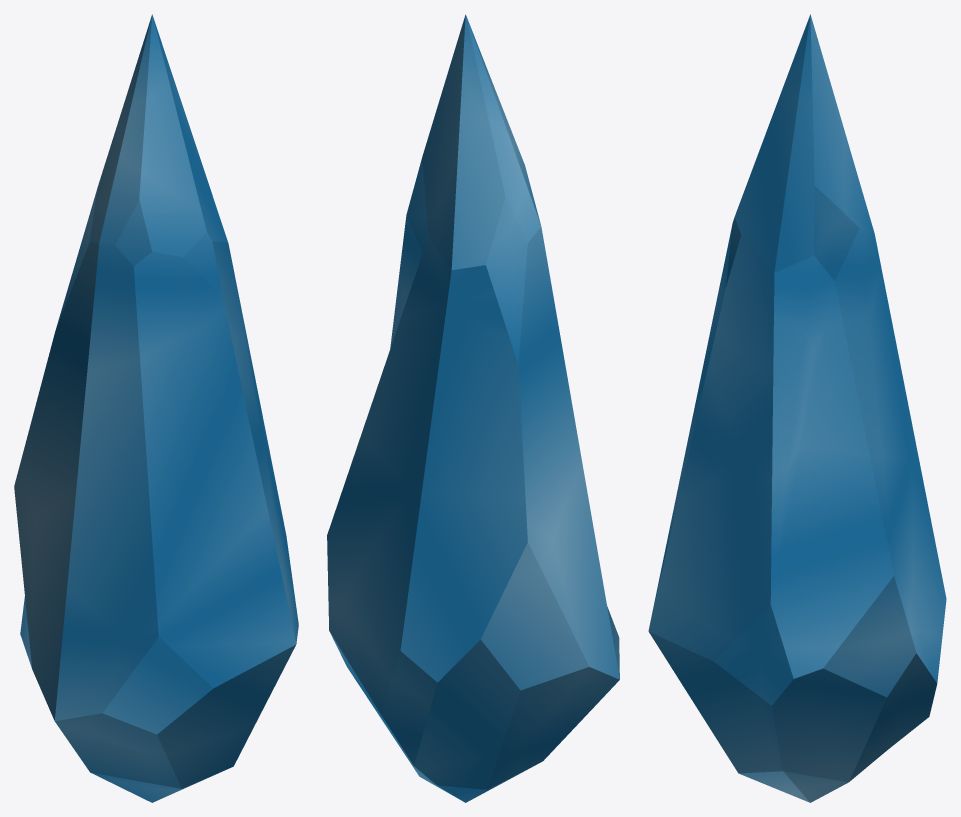
Rendered from Crystal.fbx.
3 renders of one model, left to right at view 1: azimuth 30°, elevation 25°; view 2: azimuth 150°, elevation 25°; view 3: azimuth 270°, elevation 25°, orthographic.
Parts seen in each view (by area): view 1: IceCrystal; view 2: IceCrystal; view 3: IceCrystal.
Part boxes in pixels (x1,y1,x2,y2): IceCrystal: (14, 14, 298, 802); IceCrystal: (327, 14, 619, 802); IceCrystal: (648, 14, 946, 802).
Bounding box in the file's own units: 4.13 × 12.38 × 4.24.
